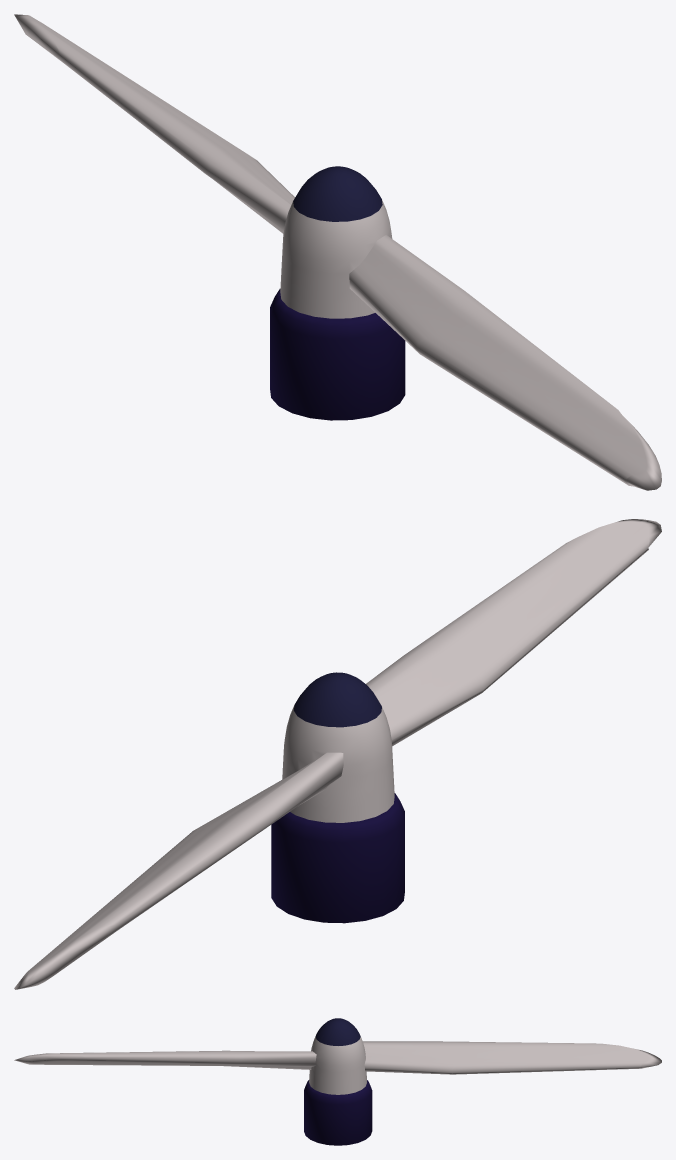
Rendered from propellor_02_blue.3730ae73.glb.
3 views of the same model, one above another, from view 1: azimuth 30°, elevation 25°; view 2: azimuth 150°, elevation 25°; view 3: azimuth 270°, elevation 25° (orthographic). The views are drawn at different scales.
Parts seen in each view (by area): view 1: Rotor1_shd_white_0; view 2: Rotor1_shd_white_0; view 3: Rotor1_shd_white_0.
Boxes of the visible parts, <box> form: Rotor1_shd_white_0: <box>14,14,661,490</box>; Rotor1_shd_white_0: <box>14,519,661,989</box>; Rotor1_shd_white_0: <box>14,1018,661,1145</box>.
Bounding box in the file's own units: 1.05 × 1.89 × 9.93.
